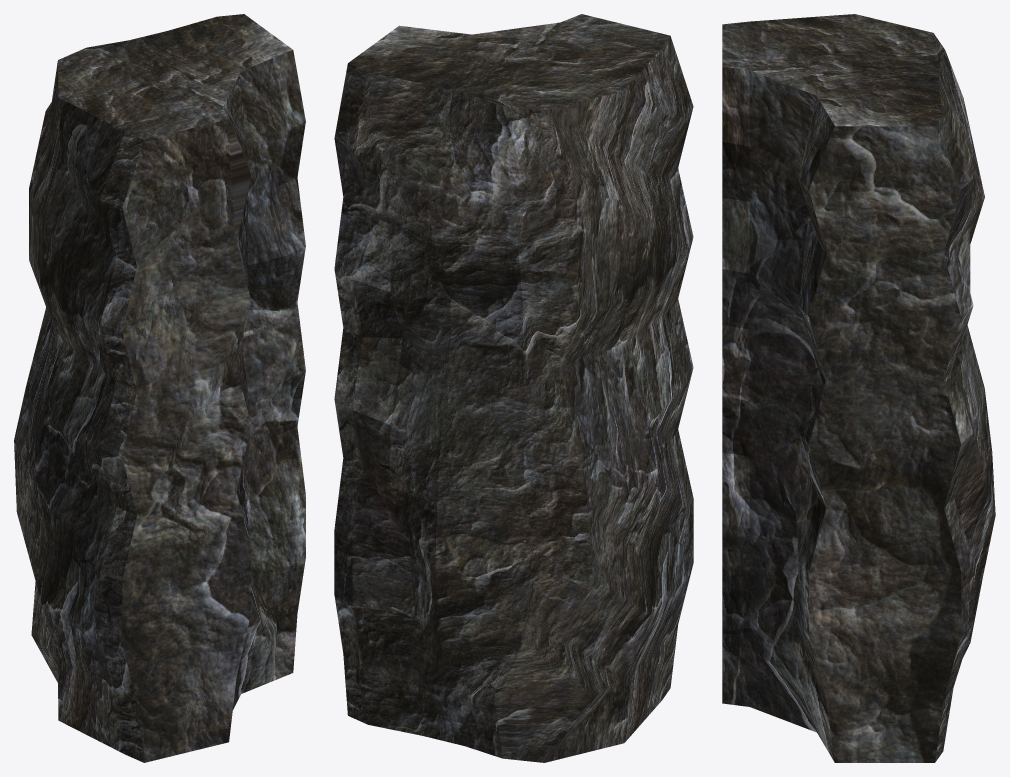
File: RockyWallCorner.FBX
3 renders of one model, left to right at view 1: azimuth 30°, elevation 25°; view 2: azimuth 150°, elevation 25°; view 3: azimuth 270°, elevation 25°, orthographic. The views are drawn at different scales.
Visible parts, largest first — view 1: RockyWallCorner; view 2: RockyWallCorner; view 3: RockyWallCorner.
Boxes of the visible parts, x1,y1,x2,y2 form: RockyWallCorner: [14, 14, 305, 762]; RockyWallCorner: [334, 14, 693, 762]; RockyWallCorner: [722, 14, 995, 762].
Bounding box in the file's own units: 42.51 × 100 × 38.9.
1 material, 1 textured.
